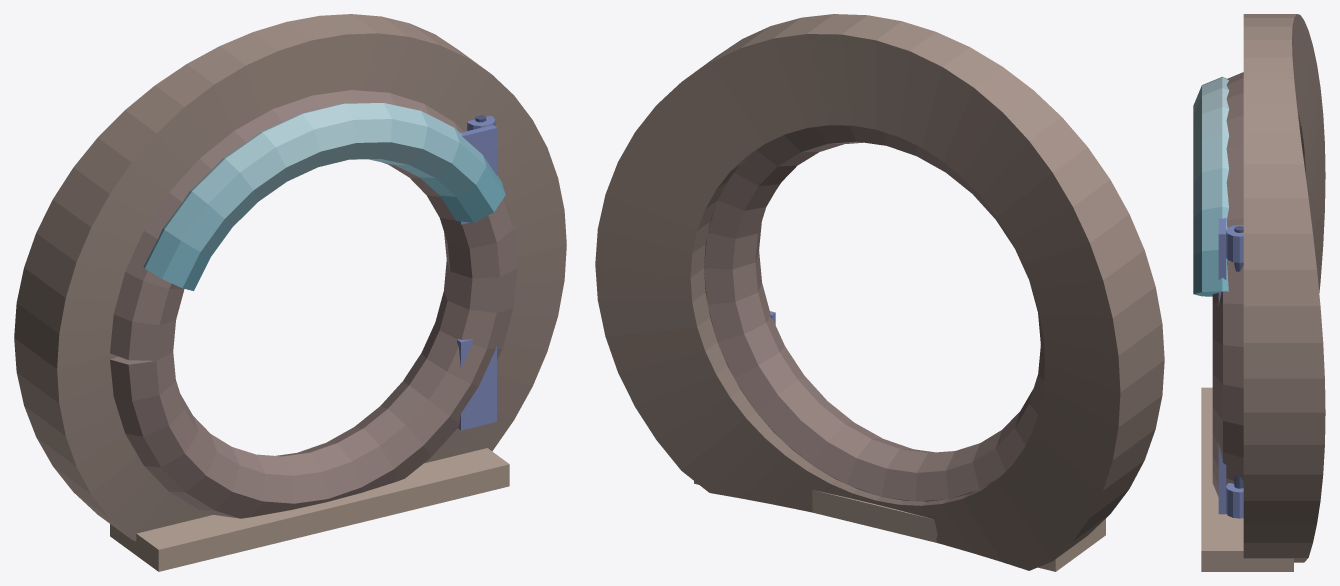
File: goo_jar_door@crystal.fbx
3 views of the same model, side by side, from view 1: azimuth 30°, elevation 25°; view 2: azimuth 150°, elevation 25°; view 3: azimuth 270°, elevation 25° (orthographic). The views are drawn at different scales.
Visible parts, largest first — view 1: goo_jar_door; view 2: goo_jar_door; view 3: goo_jar_door.
Part boxes in pixels (x1,y1,x2,y2): goo_jar_door: [14, 14, 566, 571]; goo_jar_door: [595, 14, 1164, 571]; goo_jar_door: [1193, 14, 1325, 571].
Size of the model in its own units: 14.52 by 13.06 by 3.42.
